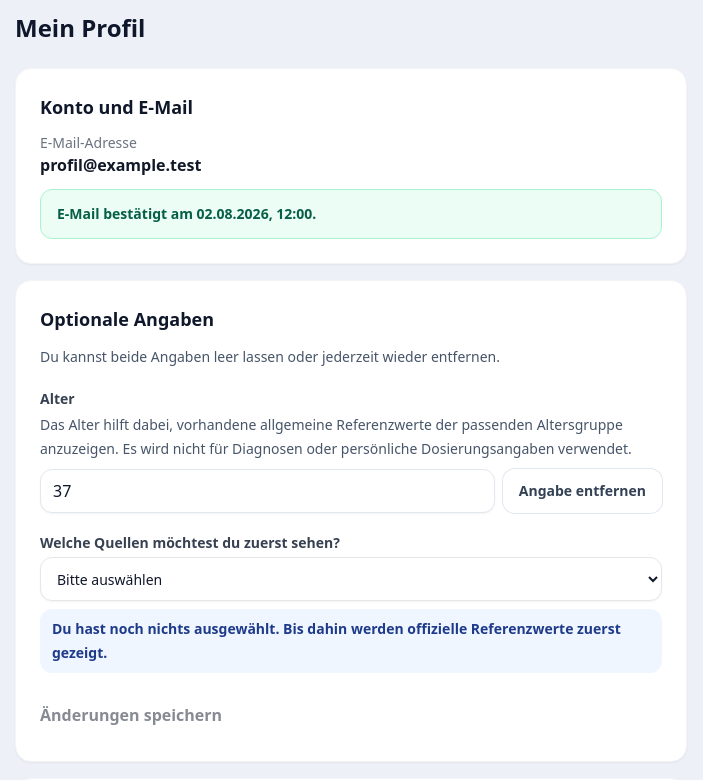
Test case: ProfilePage preferences and privacy controls › sends only a changed source preference and announces the saved result
The image size is (703, 780).
Step 1. Select "Studien" in the dropdown labelled "Welche Quellen möchtest du zuerst sehen?" → (351, 579), box [40, 557, 662, 601]
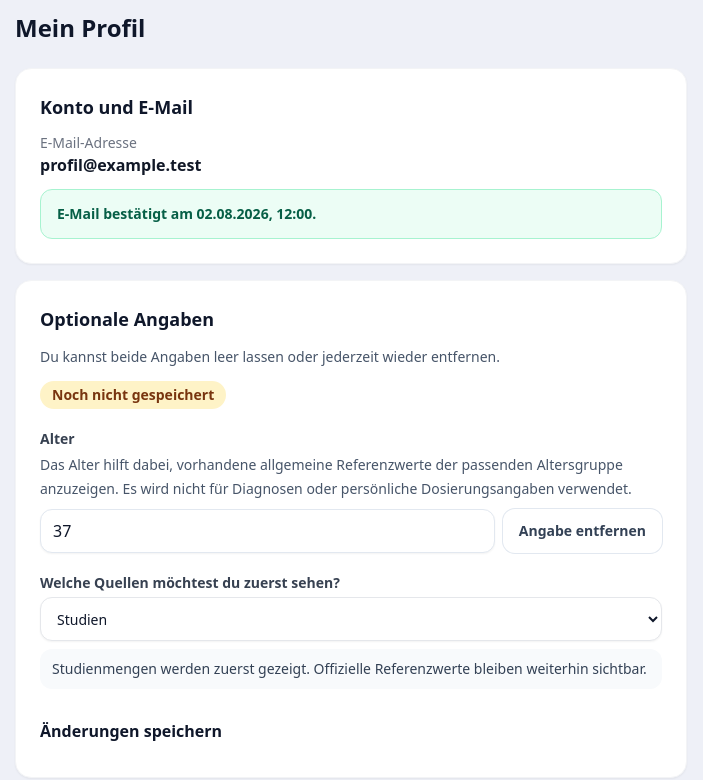
Expected: the text "Noch nicht gespeichert" is shown, [40, 381, 226, 409]
Step 2. Click the button "Änderungen speichern" → (131, 731), box [40, 709, 222, 753]
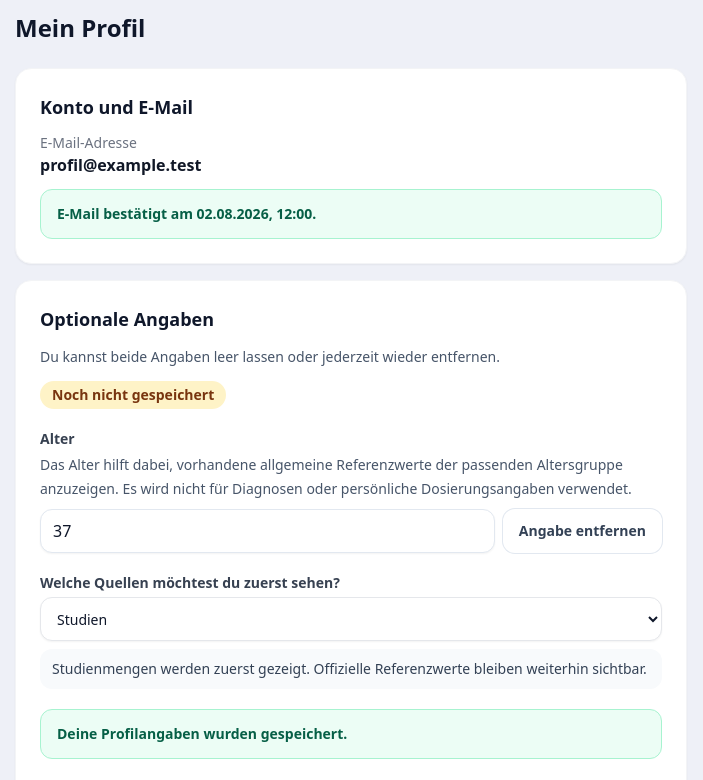
Expected: the text "Deine Profilangaben wurden gespeichert." is shown, [40, 709, 662, 759]
